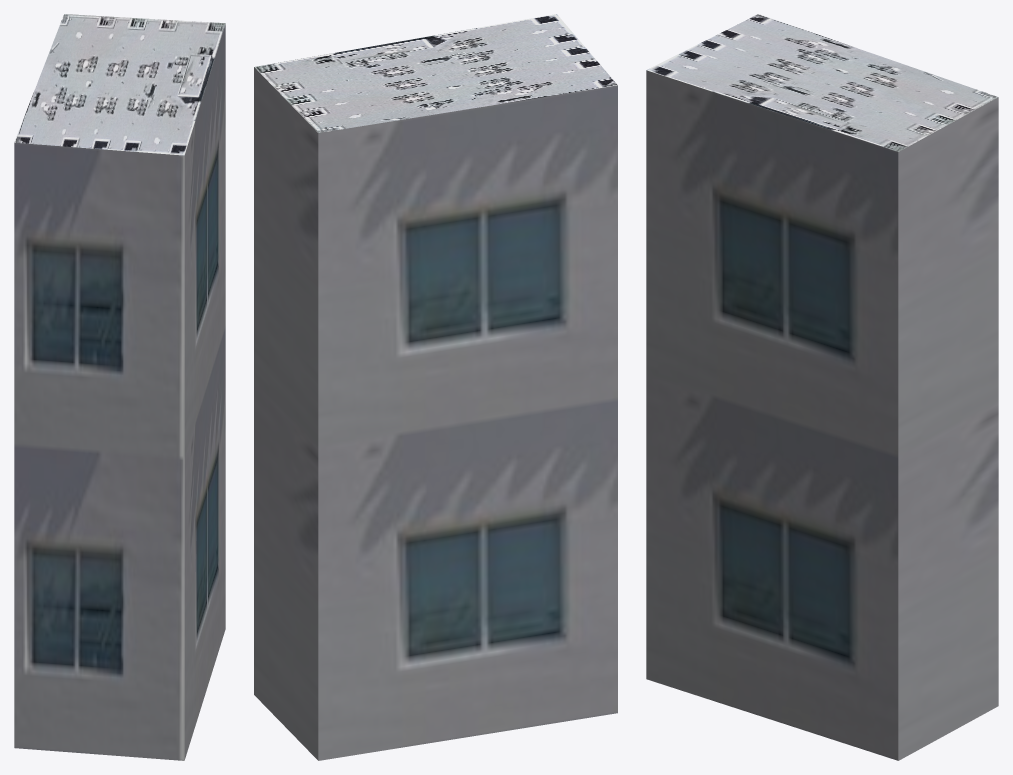
Rendered from ResTex__2345.fbx.
3 renders of one model, left to right at view 1: azimuth 30°, elevation 25°; view 2: azimuth 150°, elevation 25°; view 3: azimuth 270°, elevation 25°, orthographic. The views are drawn at different scales.
Visible parts, largest first — view 1: CityEngineMaterial_10_m, CityEngineMaterial_8_m; view 2: CityEngineMaterial_10_m, CityEngineMaterial_8_m; view 3: CityEngineMaterial_10_m, CityEngineMaterial_8_m.
Part boxes in pixels (x1,y1,x2,y2): CityEngineMaterial_10_m: (14, 24, 225, 760); CityEngineMaterial_8_m: (14, 14, 225, 155); CityEngineMaterial_10_m: (254, 67, 617, 760); CityEngineMaterial_8_m: (254, 14, 617, 132); CityEngineMaterial_10_m: (646, 70, 998, 760); CityEngineMaterial_8_m: (646, 14, 998, 151).
Bounding box in the file's own units: 2.92 × 6 × 3.15.
2 materials, 2 textured.
